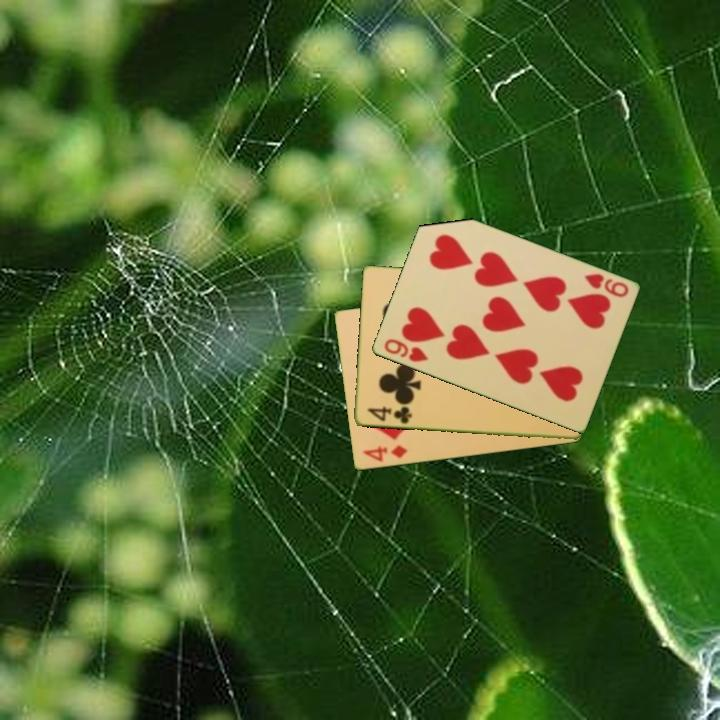4c: (364, 403, 414, 427)
4d: (359, 442, 410, 465)
9h: (580, 270, 631, 301), (380, 335, 431, 365)
